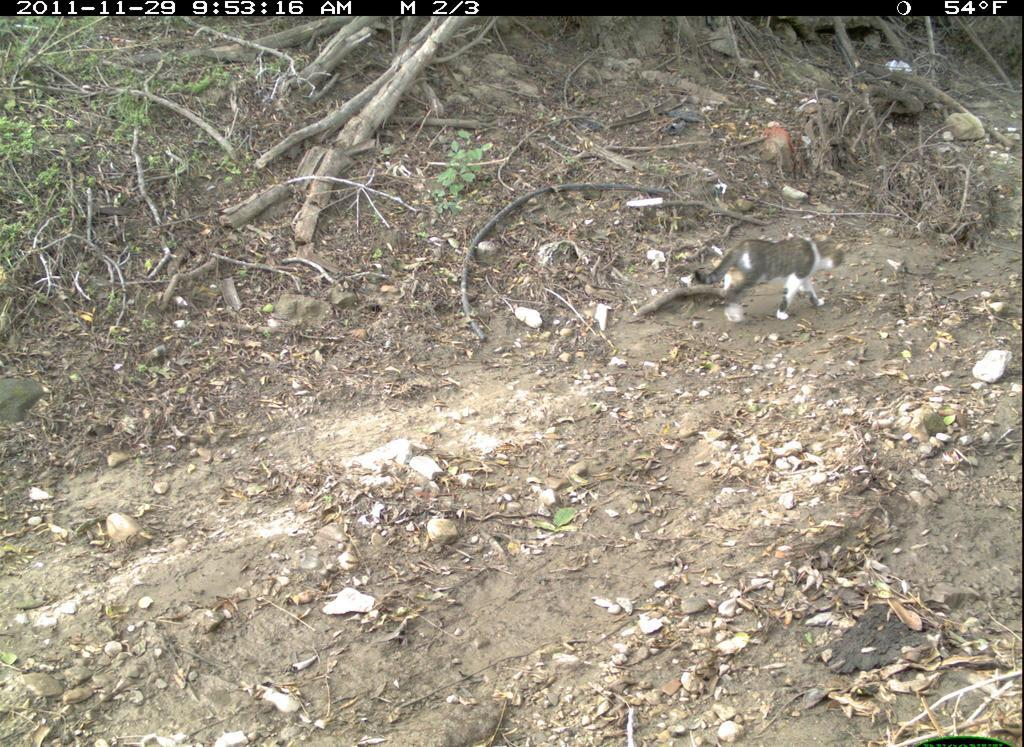cat: (693, 228, 850, 328)
